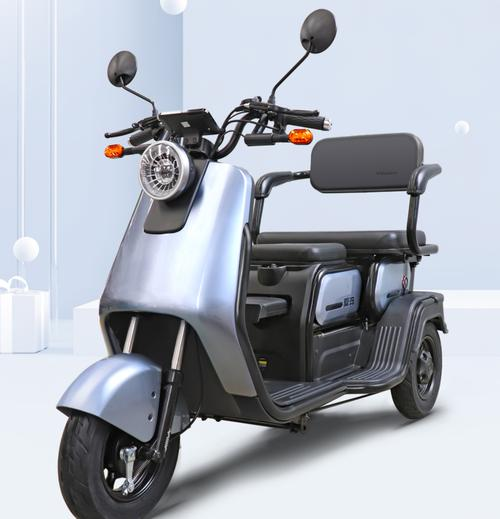empty: (19, 6, 476, 519)
